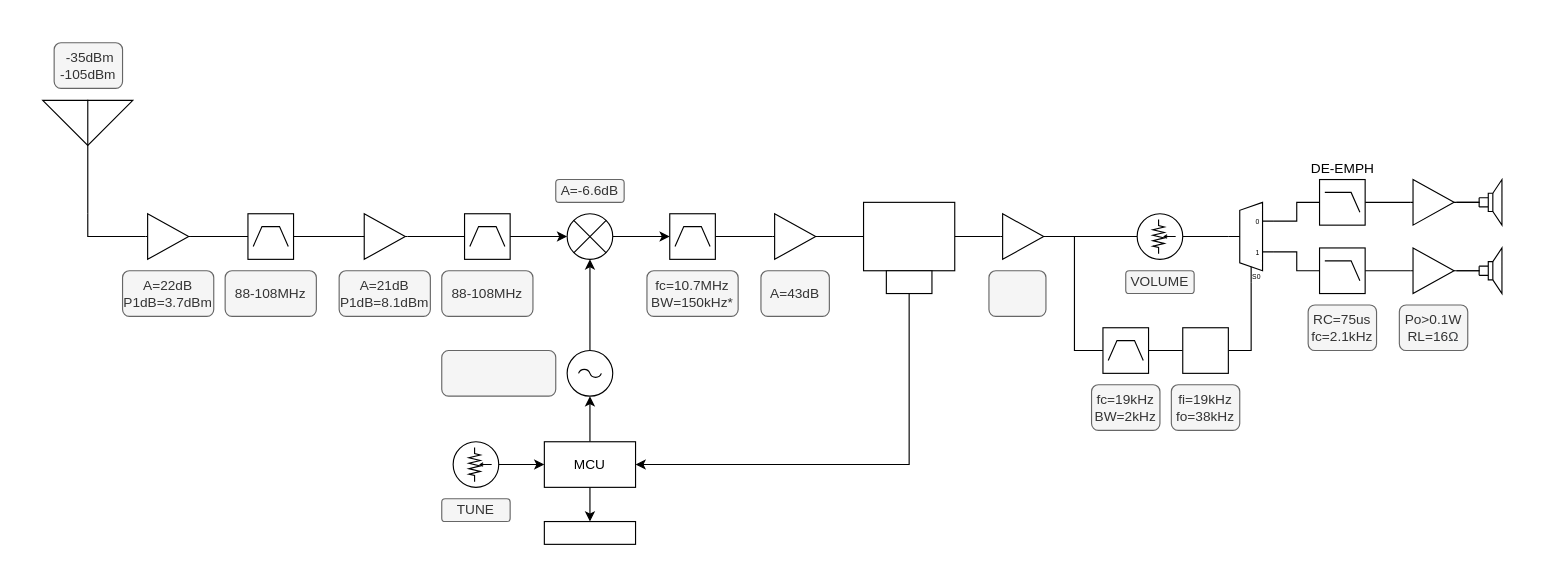
This 1555x586 diagram has some shape labels left out. The shapes that lost their labels are listed below. From the top down, each one's centre as x and y in pixels, then its label:
the point at 692,236: SAW
the point at 908,236: FM DEMOD PLL
the point at 908,282: RSSI
the point at 1017,293: A=153
the point at 1205,350: 2 f
the point at 498,372: 77.4-118.6 MHz 6dBm
the point at 589,372: LO
the point at 589,532: DISPLAY
